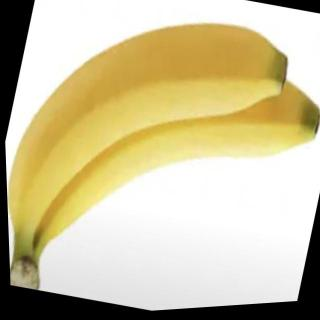banana: (15, 10, 320, 303), (0, 0, 304, 289)
